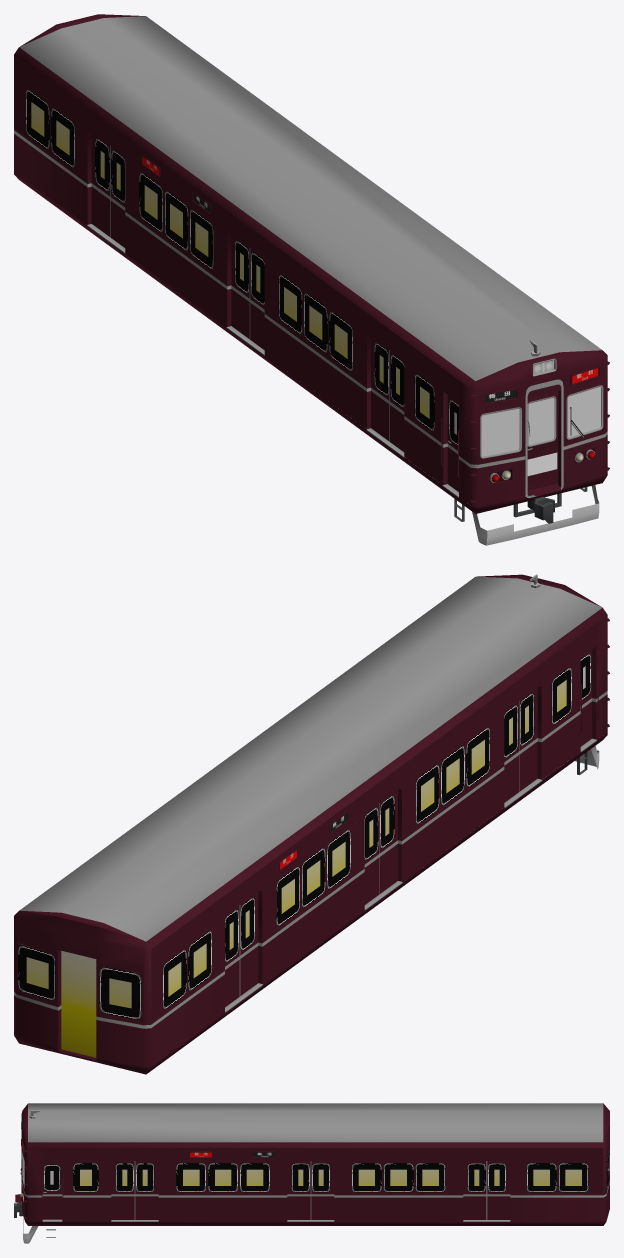
3 views of the same model, one above another, from view 1: azimuth 30°, elevation 25°; view 2: azimuth 150°, elevation 25°; view 3: azimuth 270°, elevation 25° (orthographic). The views are drawn at different scales.
Visible parts, largest first — view 1: IN; view 2: IN; view 3: IN.
Part boxes in pixels (x1,y1,x2,y2): IN: [14, 14, 609, 545]; IN: [14, 574, 609, 1074]; IN: [14, 1103, 609, 1243].
Size of the model in its own units: 6.68 by 8.31 by 38.95.
Materials: 19 (17 with a texture image).
